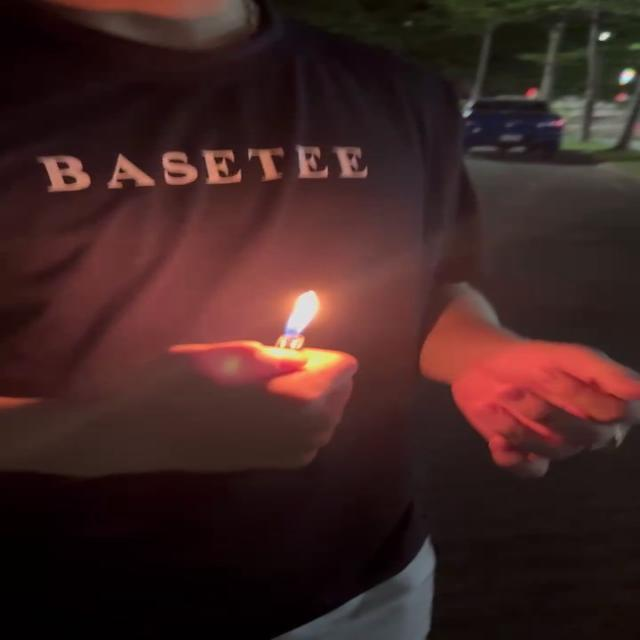Fire: (285, 289, 325, 341)
